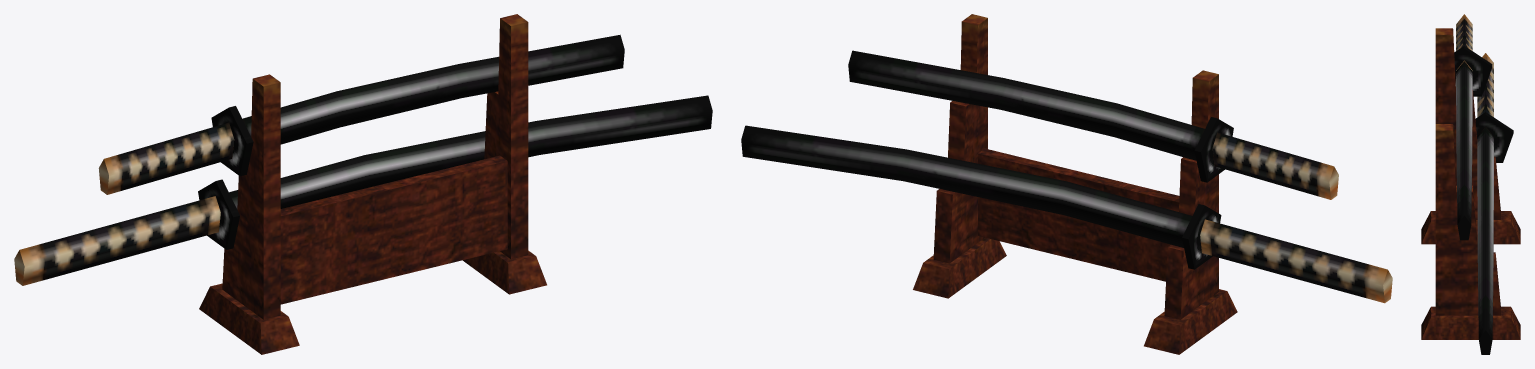
The model's file is swordrack_s1.fbx.
The picture shows the model from 3 angles, left to right: view 1: azimuth 30°, elevation 25°; view 2: azimuth 150°, elevation 25°; view 3: azimuth 270°, elevation 25°; orthographic projection. The views are drawn at different scales.
Visible parts, largest first — view 1: mesh_0, mesh_2, mesh_1, mesh_3, mesh_4; view 2: mesh_0, mesh_1, mesh_2, mesh_4, mesh_3; view 3: mesh_4, mesh_0, mesh_3, mesh_1.
Boxes of the visible parts, x1,y1,x2,y2 form: mesh_0: (14, 95, 712, 285); mesh_2: (280, 155, 507, 304); mesh_1: (98, 34, 624, 194); mesh_3: (199, 74, 299, 354); mesh_4: (463, 14, 546, 294); mesh_0: (741, 125, 1392, 303); mesh_1: (848, 50, 1338, 199); mesh_2: (978, 148, 1179, 281); mesh_4: (913, 14, 1006, 298); mesh_3: (1144, 70, 1237, 354); mesh_4: (1421, 124, 1520, 339); mesh_0: (1475, 53, 1513, 354); mesh_3: (1421, 28, 1520, 244); mesh_1: (1454, 14, 1492, 240).
Size of the model in its own units: 132 by 47.57 by 20.88.
1 material, 1 textured.
